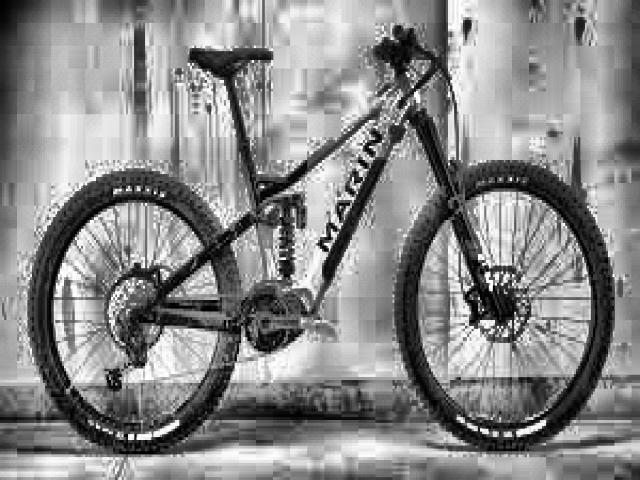cassette: (106, 273, 166, 350)
cranks_set: (240, 284, 321, 358)
pedal: (298, 312, 336, 332)
rear_derailleur: (103, 316, 151, 392)
saddle: (188, 44, 274, 80)
wheel: (393, 160, 614, 452), (28, 169, 244, 455)
